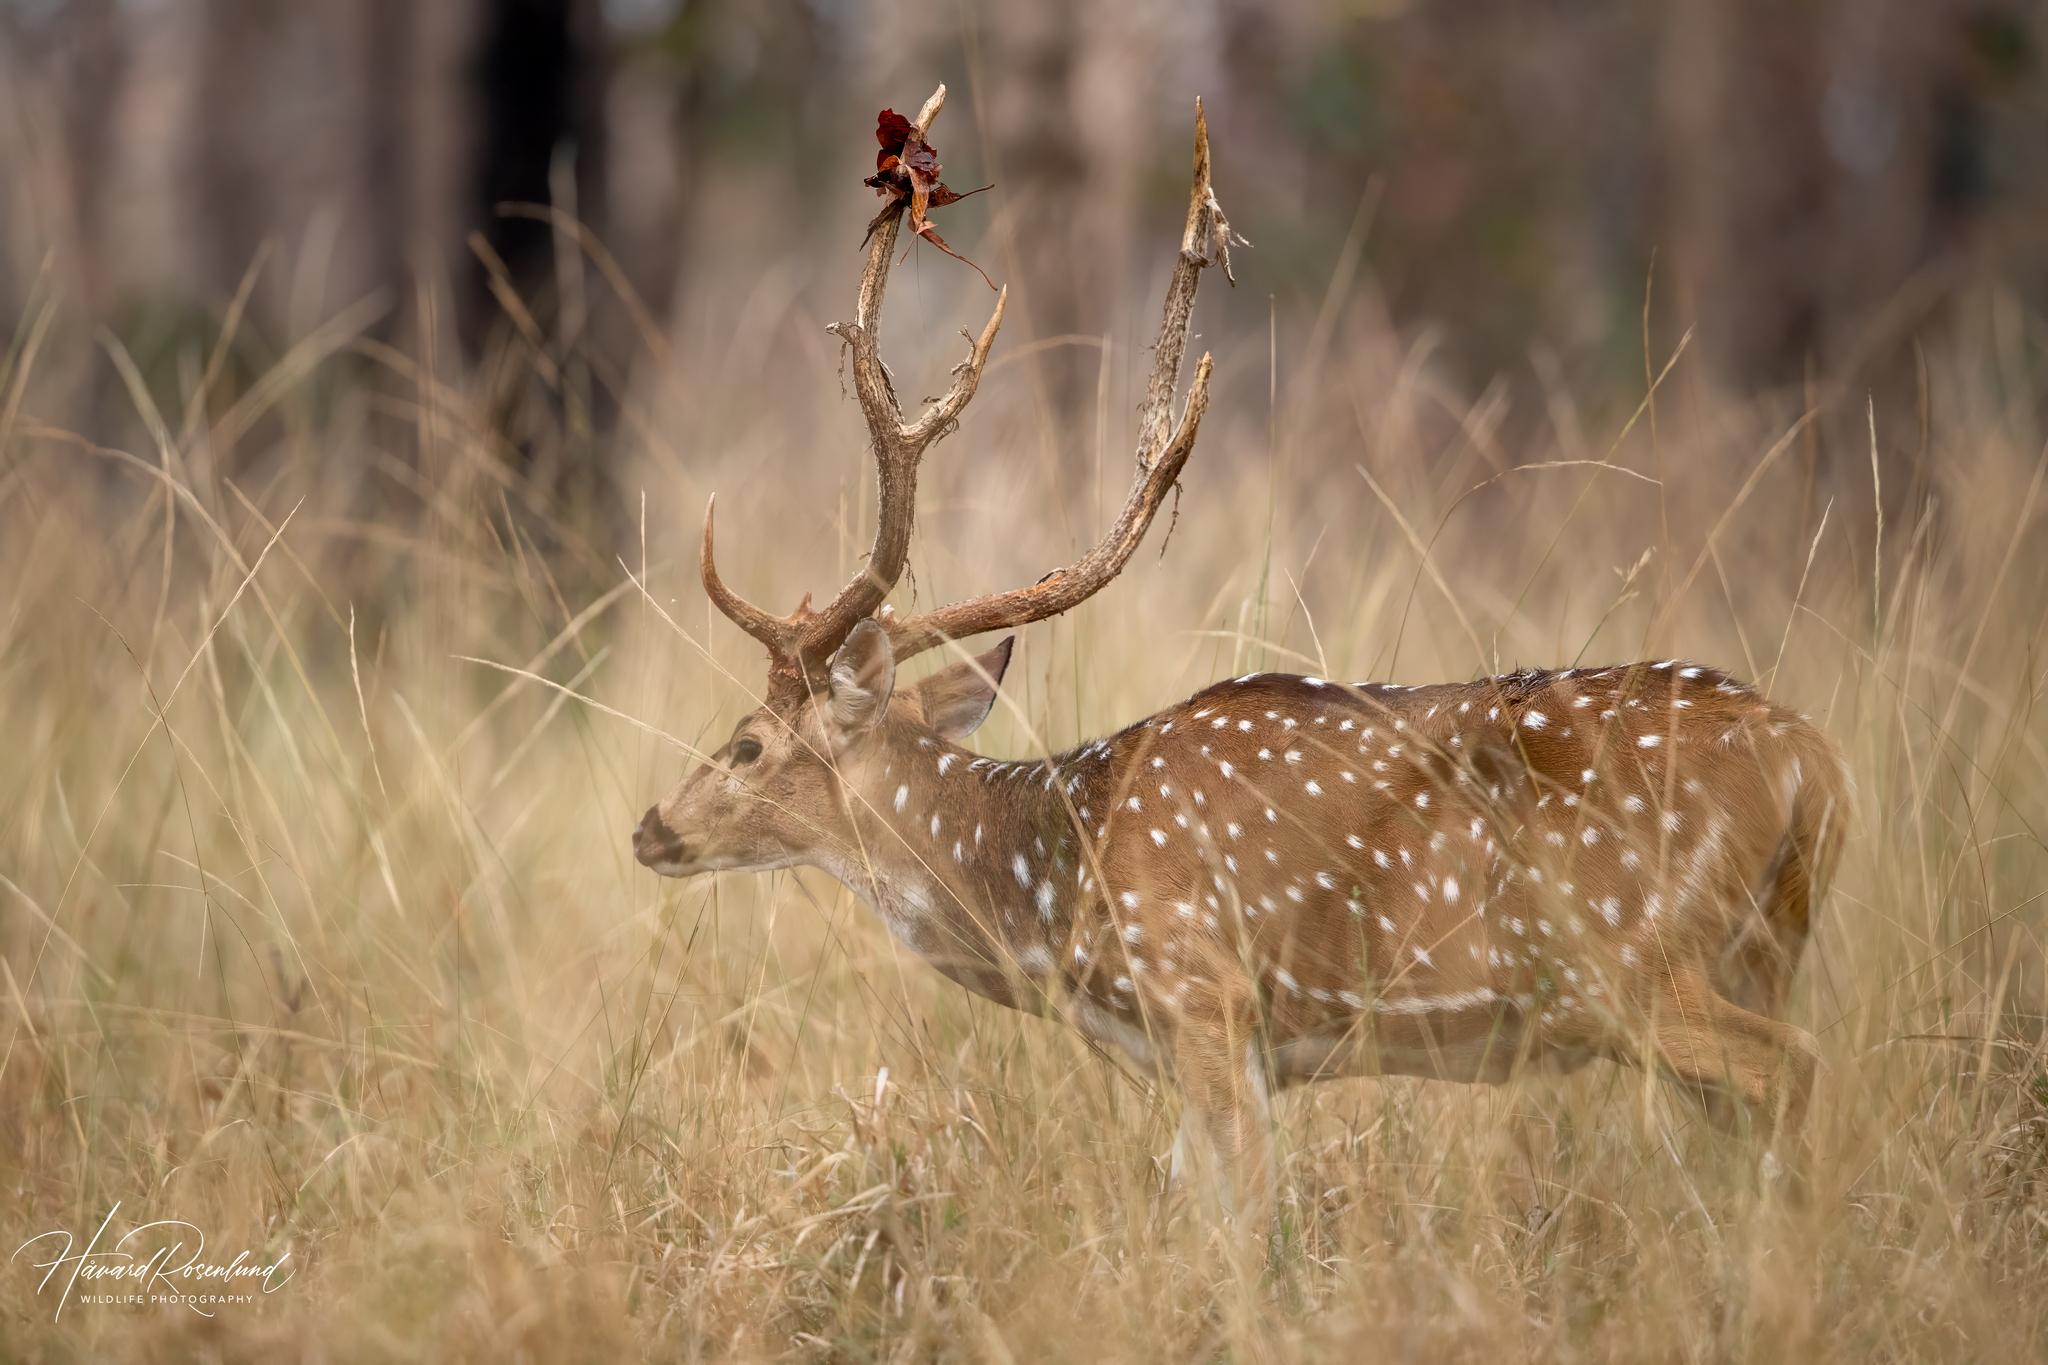Deer: (633, 117, 1849, 1173)
